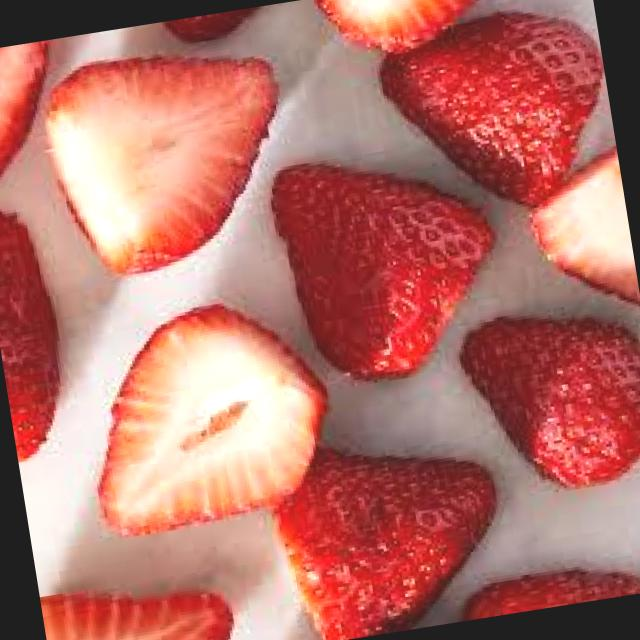strawberry: (34, 25, 302, 289), (70, 288, 328, 544), (262, 144, 488, 392), (249, 417, 492, 640), (369, 0, 618, 208), (463, 300, 640, 508)
